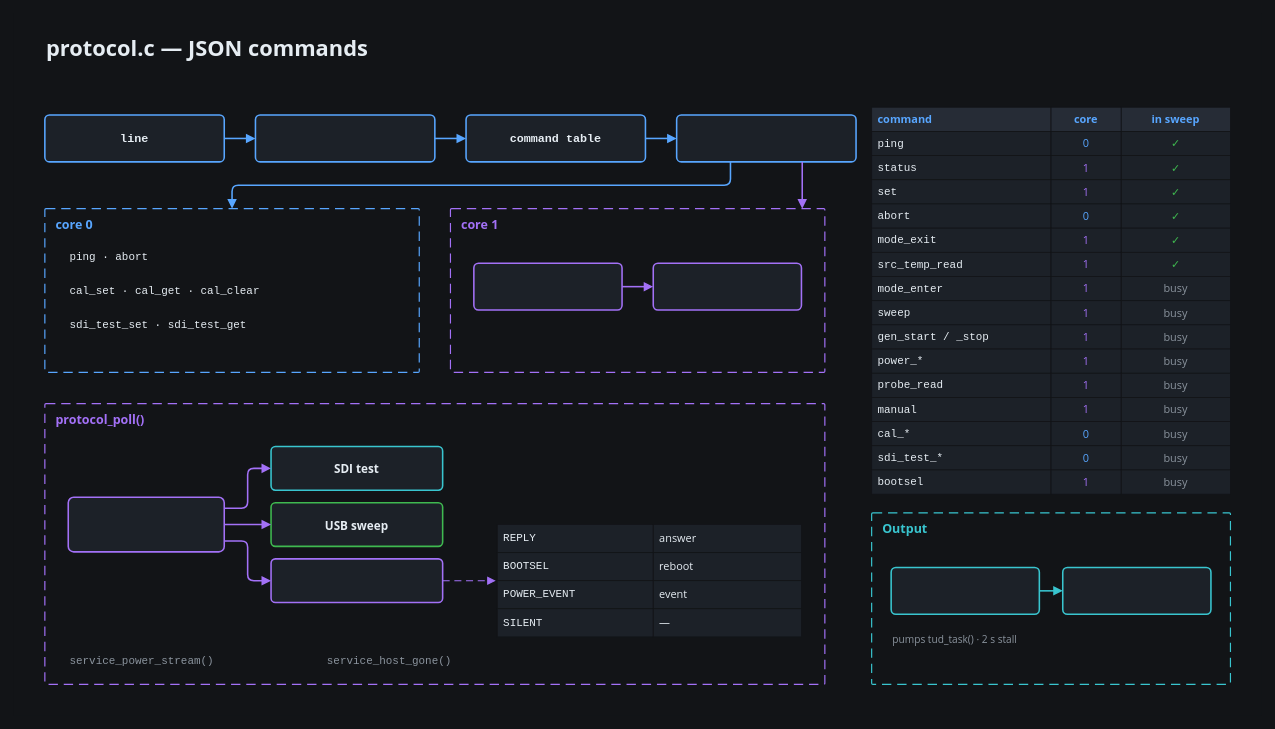
This 1275x729 diagram has some shape labels left out. Here are the shapes that lost their labels. From the top down, the centre of each, then its label:
[344,138]: cJSON_Parse
[765,138]: cmd_*()
[547,286]: pending slot 8
[727,286]: rf_task_send()
[146,524]: rf_task_poll()
[356,580]: pending slot
[965,590]: send_json()
[1136,590]: write_cdc()
